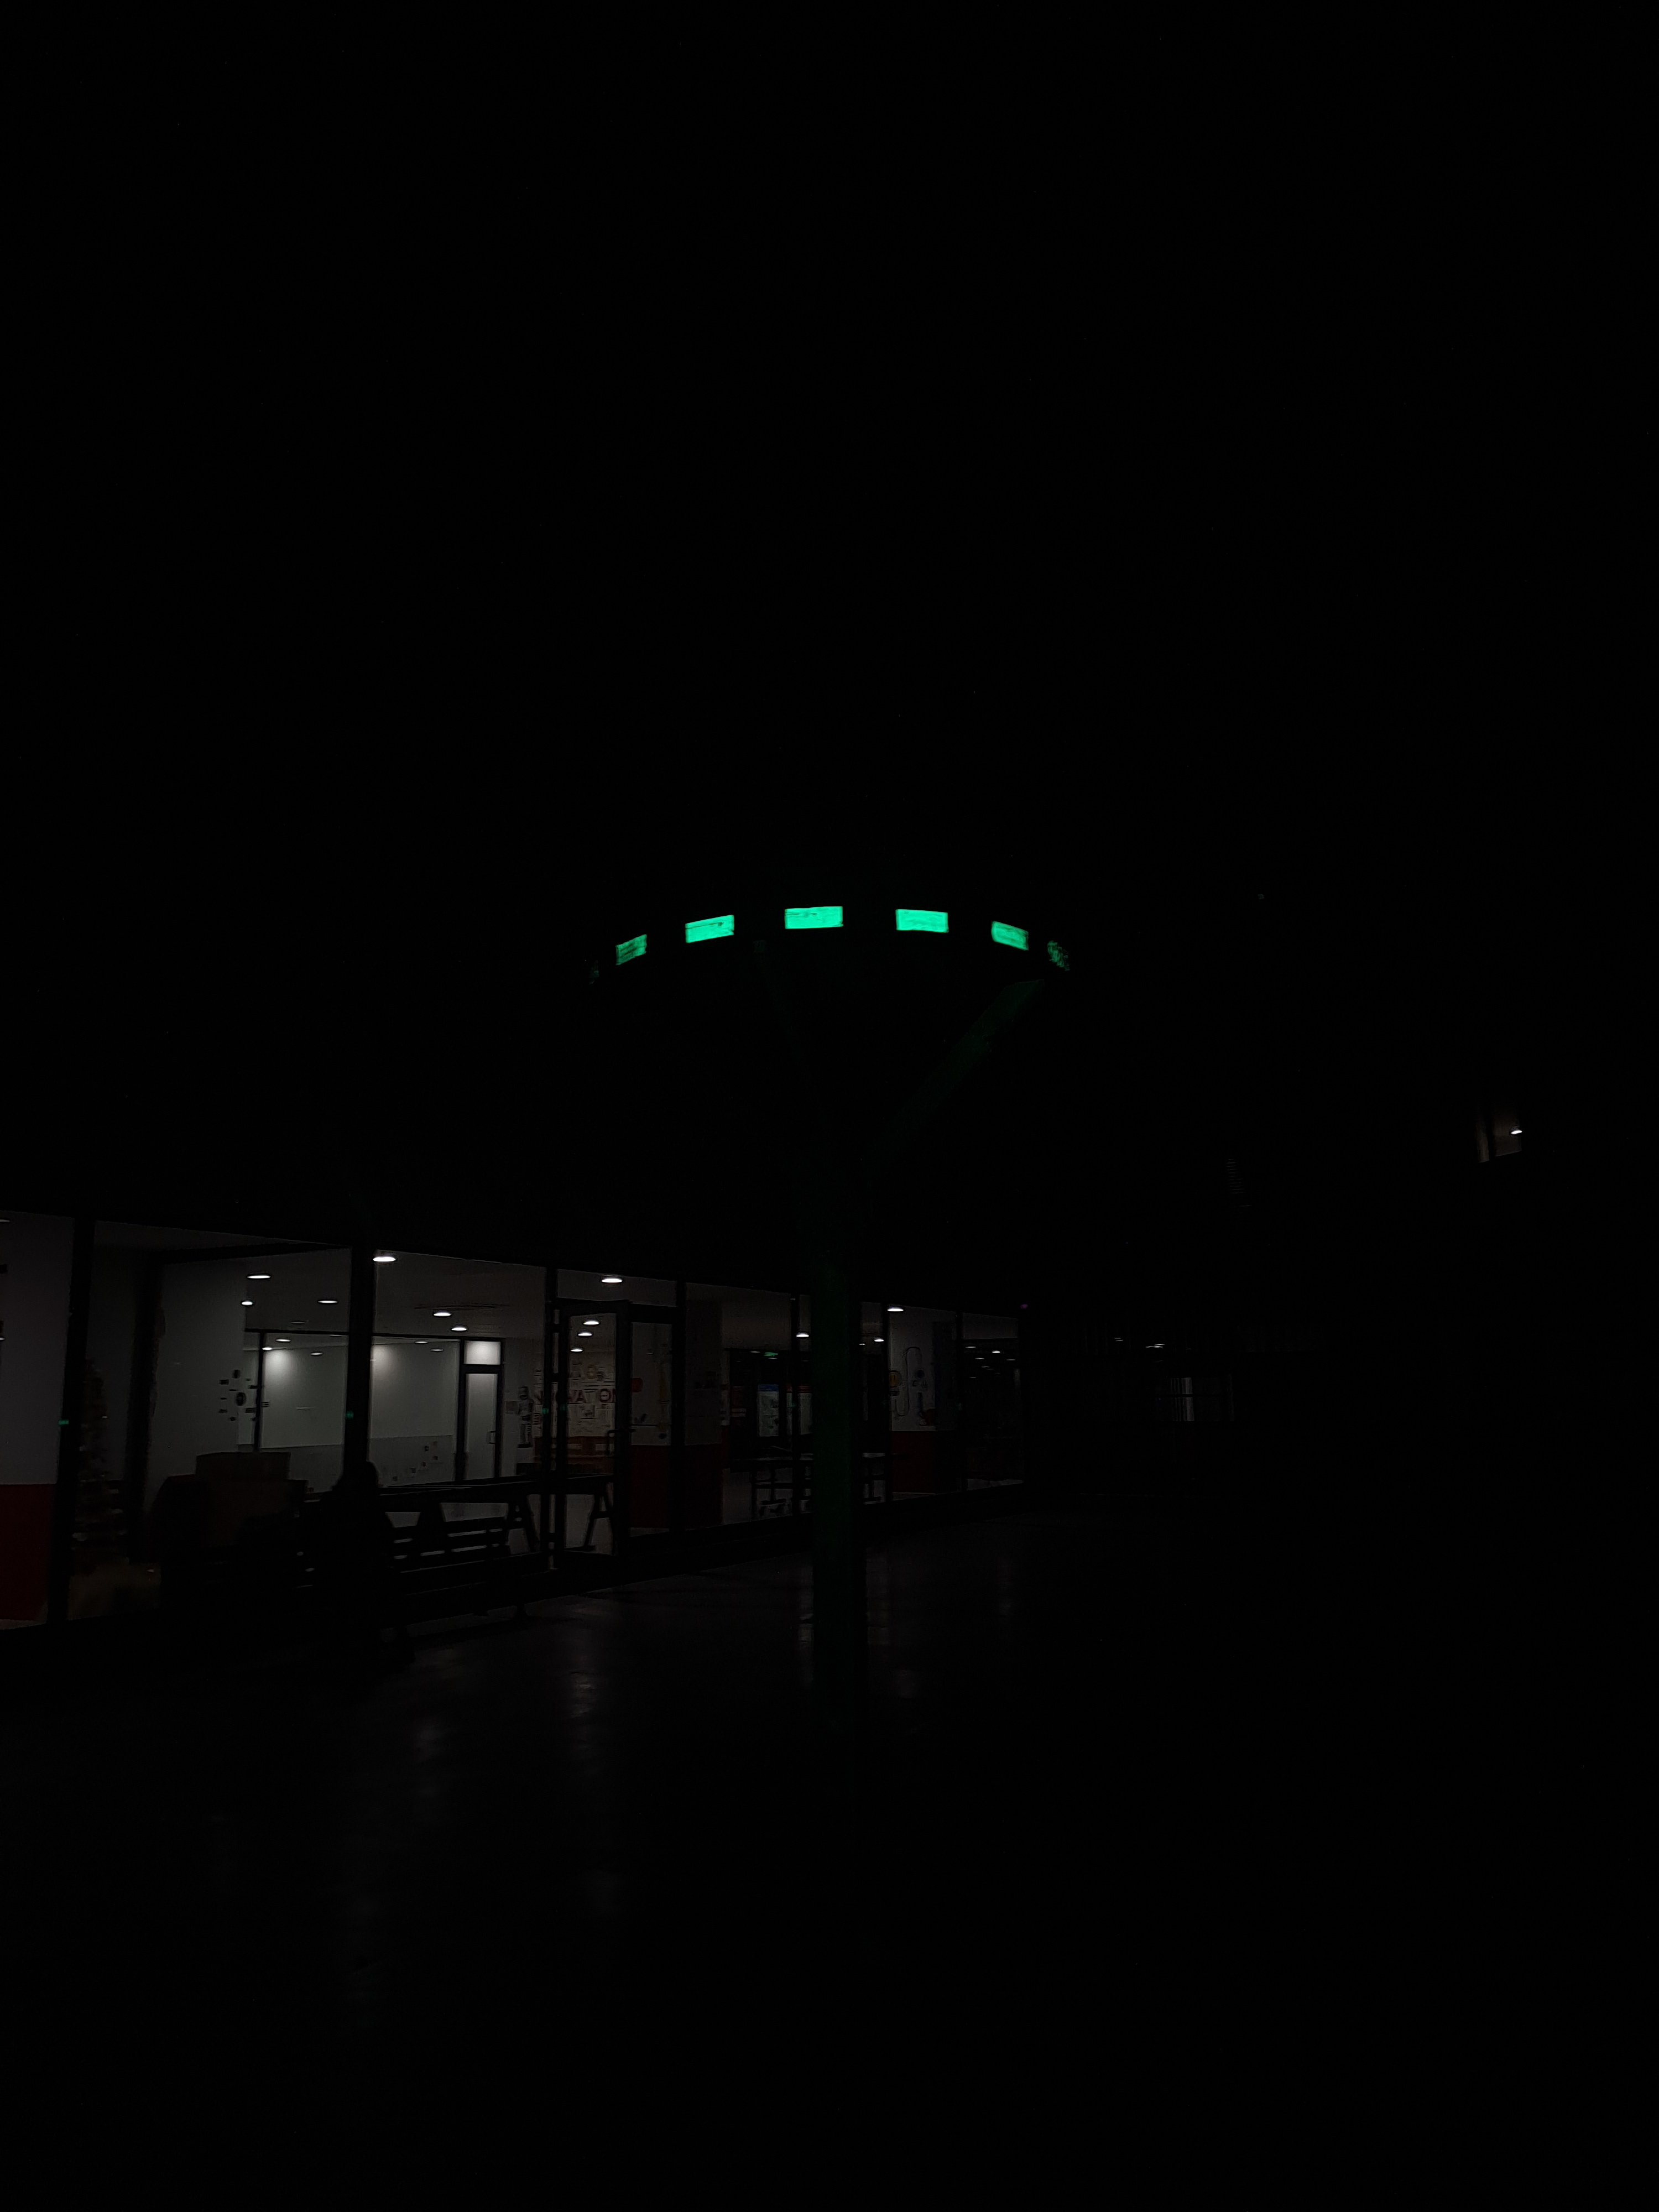hoop: (603, 904, 1072, 974)
